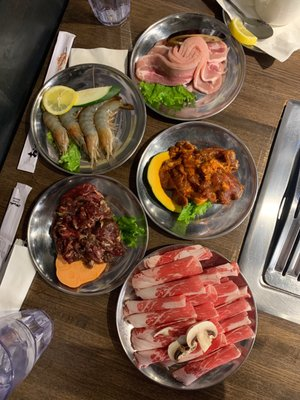pizza: (87, 0, 132, 27)
salad: (216, 0, 273, 41)
sushi: (25, 175, 149, 298), (132, 121, 258, 240), (29, 62, 147, 177), (129, 13, 246, 123)
